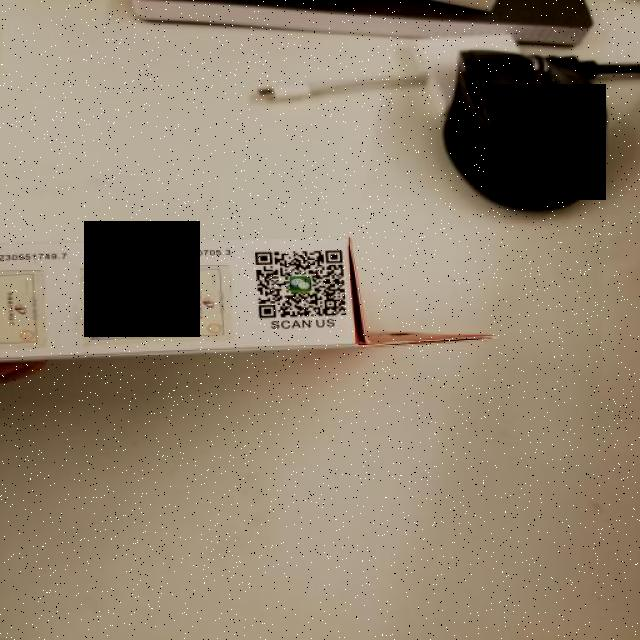QR_CODE: (245, 240, 358, 329)
